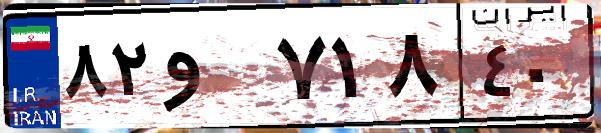0: (525, 38, 570, 115)
1: (330, 28, 385, 110)
2: (110, 28, 158, 98)
4: (475, 38, 525, 113)
7: (270, 28, 330, 110)
8: (385, 28, 445, 110), (57, 26, 110, 100)
و: (158, 20, 270, 120)
